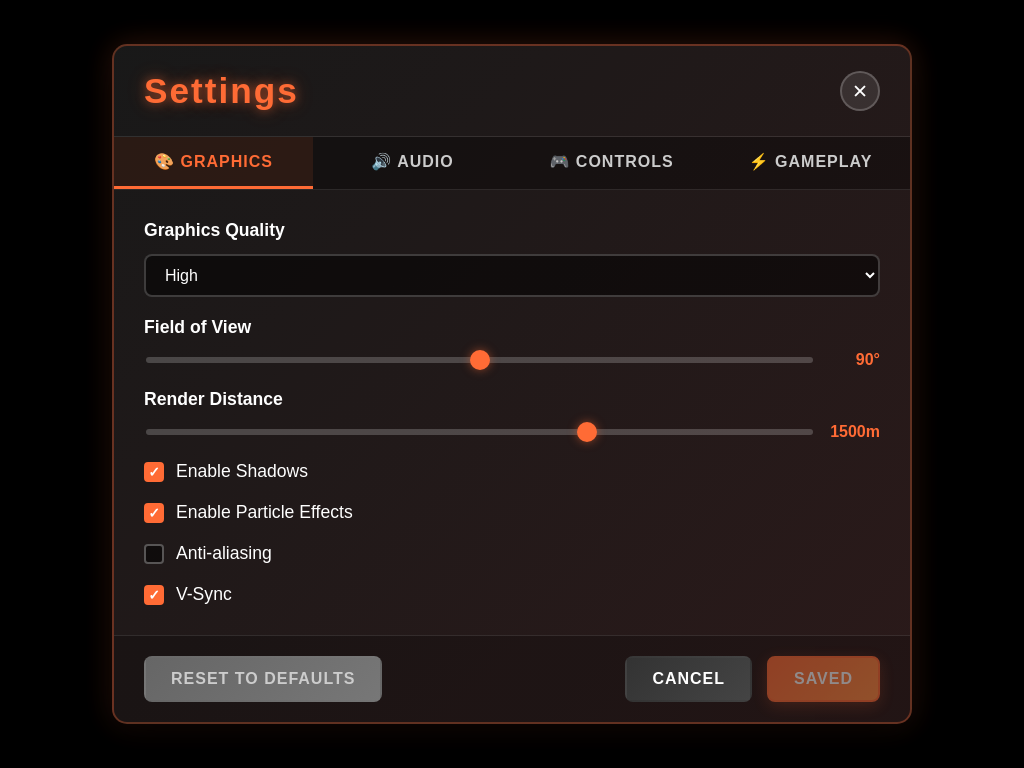
SettingsMenu Component › switches between tabs correctly
Expected: the text "Graphics Quality" is shown, [144,220,285,240]
# Switch to audio tab
What coordinates should you click on to do the following:
click the button "🔊 Audio"
I would click on:
 (412, 163)
Its box is [313,137,512,189].
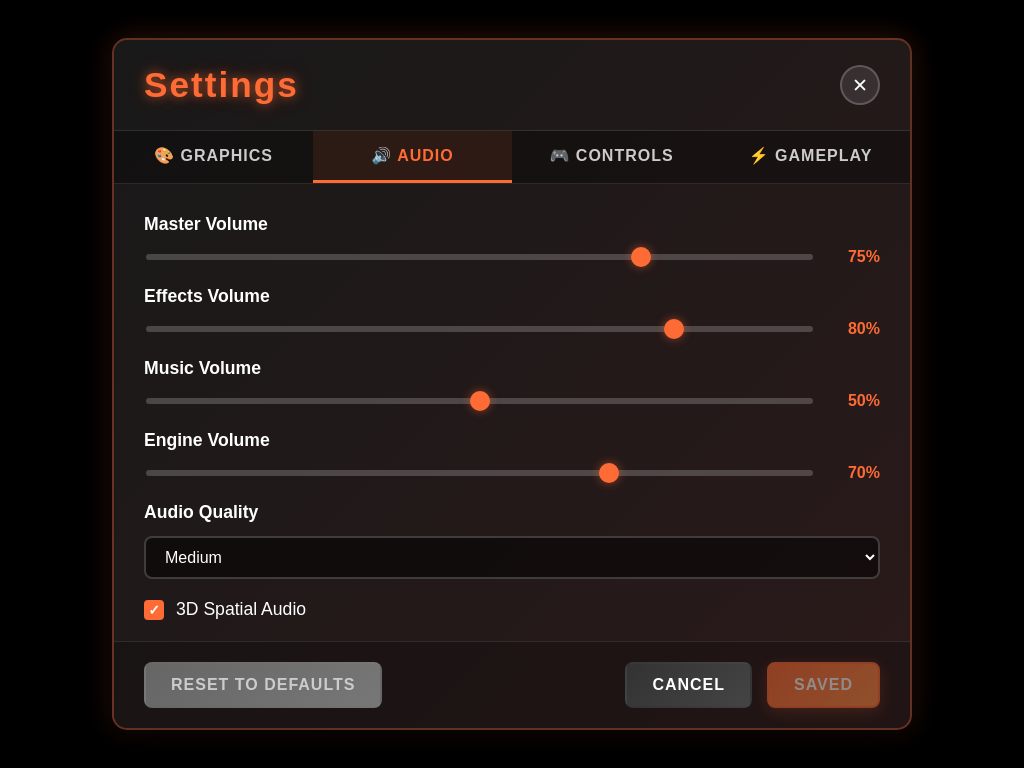
Expected: the text "Master Volume" is shown, [144,214,268,234]
Expected: the text "Graphics Quality" is gone
